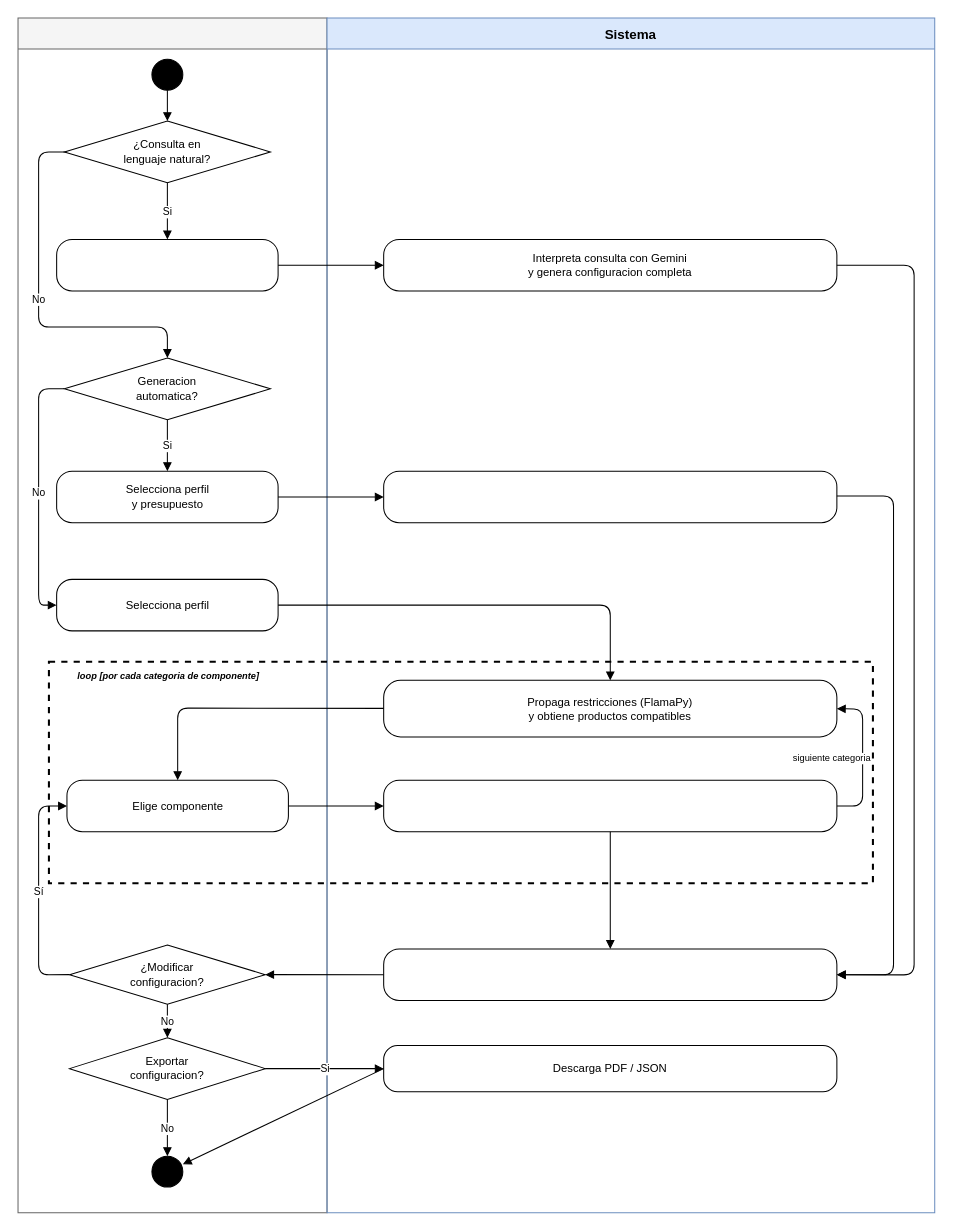
The diagram is 953 pixels wide and 1231 high, and some of its shapes have lost their labels. Each missing label, with the box of its shape:
Actualiza estado y restricciones: (383, 779, 837, 832)
Escribe consulta en lenguaje natural: (56, 238, 278, 291)
Genera configuracion completa por perfil y presupuesto: (383, 470, 837, 523)
Muestra Resumen (componentes + precio total): (383, 948, 837, 1000)
Usuario: (17, 17, 327, 1213)
